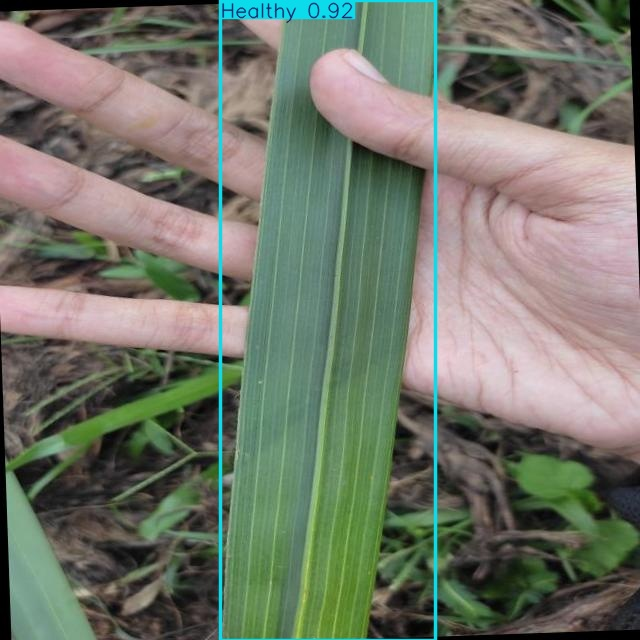Healthy: (220, 1, 435, 640)
